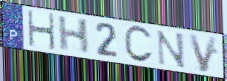2: (94, 22, 120, 60)
C: (123, 25, 155, 65)
H: (57, 15, 91, 56), (26, 9, 58, 52)
N: (156, 29, 187, 70)
V: (187, 33, 220, 74)
